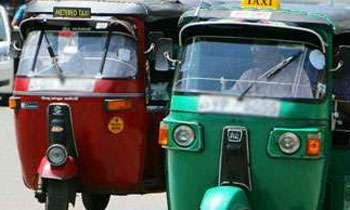threewheel: (157, 1, 350, 210), (8, 1, 180, 210)
